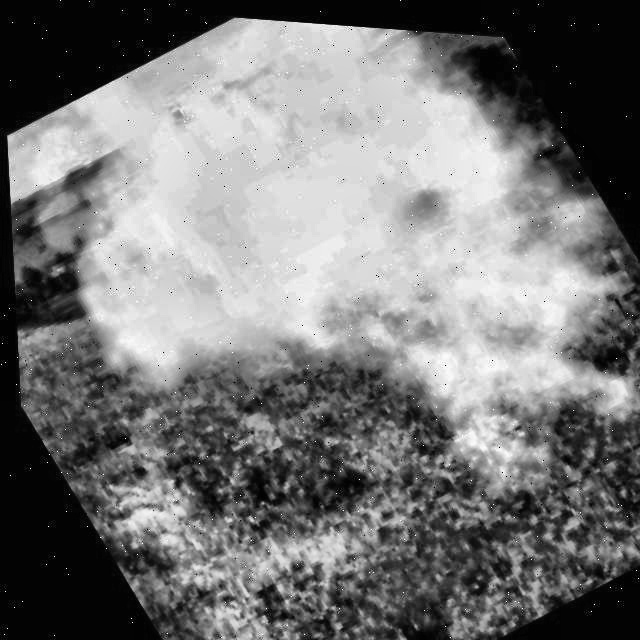Smoke: (6, 14, 640, 634)
